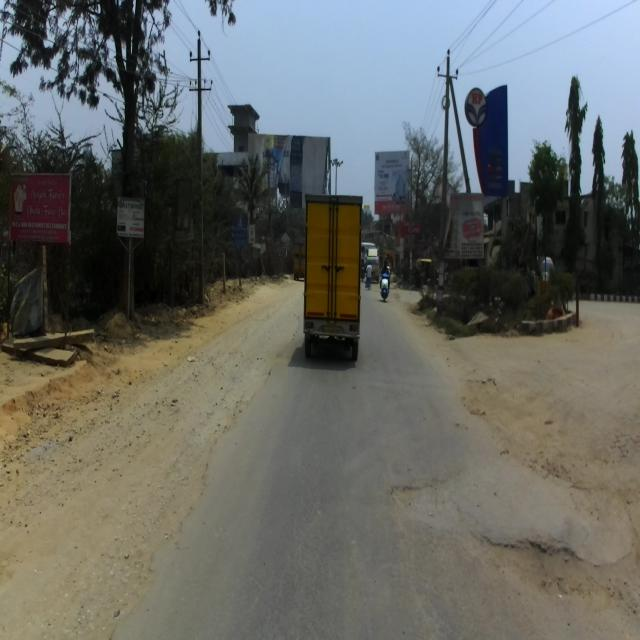electric pole ahead at: (183, 17, 217, 307)
truck ahead at: (302, 190, 364, 372)
